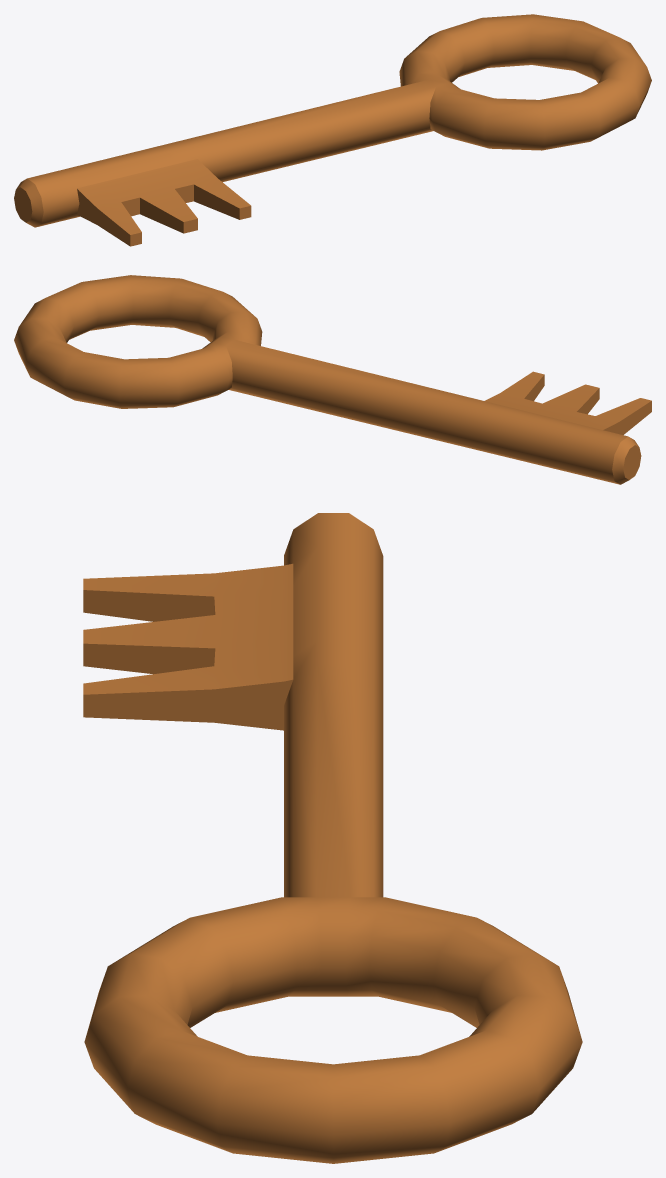
The model's file is Key.fbx.
3 views of the same model, one above another, from view 1: azimuth 30°, elevation 25°; view 2: azimuth 150°, elevation 25°; view 3: azimuth 270°, elevation 25° (orthographic). The views are drawn at different scales.
Visible parts, largest first — view 1: Key; view 2: Key; view 3: Key.
Boxes of the visible parts, x1,y1,x2,y2 form: Key: [14, 14, 651, 246]; Key: [14, 275, 651, 484]; Key: [83, 513, 582, 1163].
Size of the model in its own units: 69.44 by 4.77 by 24.96.
